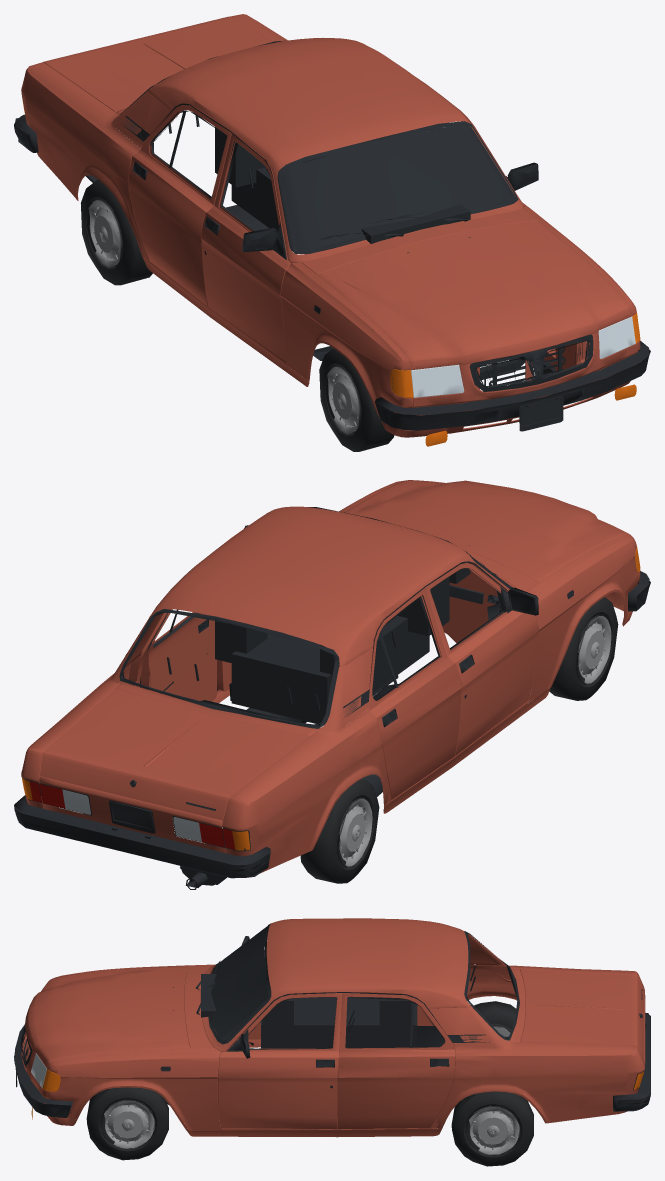
3 renders of one model, top to bottom at view 1: azimuth 30°, elevation 25°; view 2: azimuth 150°, elevation 25°; view 3: azimuth 270°, elevation 25°, orthographic. The views are drawn at different scales.
Visible parts, largest first — view 1: chassisbody, body_trim, wheel_rr, wheel_fr, interior_lowpoly_core, interior_lowpoly_dash, headlight_right, interior_lowpoly_seat.001, headlight_left, front_blinker_right_lens; view 2: chassisbody, body_trim, interior_lowpoly_core, wheel_rr, wheel_fr, interior_lowpoly_seat.003, interior_lowpoly_seat, brake_lights; view 3: chassisbody, body_trim, wheel_rl, wheel_fl, interior_lowpoly_core, interior_lowpoly_seat.003, interior_lowpoly_seat.002, wheel_rr, interior_lowpoly_dash.
Boxes of the visible parts, x1,y1,x2,y2 form: chassisbody: [21, 14, 640, 437]; body_trim: [14, 40, 650, 431]; wheel_rr: [80, 179, 152, 285]; wheel_fr: [319, 348, 394, 451]; interior_lowpoly_core: [231, 167, 356, 254]; interior_lowpoly_dash: [357, 204, 470, 243]; headlight_right: [411, 364, 464, 397]; interior_lowpoly_seat.001: [215, 127, 265, 187]; headlight_left: [598, 316, 635, 358]; front_blinker_right_lens: [390, 369, 447, 446]; chassisbody: [21, 480, 640, 873]; body_trim: [14, 507, 650, 889]; interior_lowpoly_core: [231, 615, 429, 723]; wheel_rr: [300, 779, 379, 883]; wheel_fr: [549, 597, 618, 700]; interior_lowpoly_seat.003: [215, 620, 267, 662]; interior_lowpoly_seat: [397, 576, 449, 636]; brake_lights: [39, 784, 224, 847]; chassisbody: [21, 918, 645, 1137]; body_trim: [14, 923, 650, 1117]; wheel_rl: [451, 1091, 533, 1166]; wheel_fl: [86, 1087, 168, 1160]; interior_lowpoly_core: [261, 997, 417, 1048]; interior_lowpoly_seat.003: [379, 997, 411, 1042]; interior_lowpoly_seat.002: [262, 998, 293, 1042]; wheel_rr: [472, 1001, 516, 1040]; interior_lowpoly_dash: [201, 974, 216, 1020].
Bounding box in the file's own units: 2.13 × 1.59 × 5.21.
